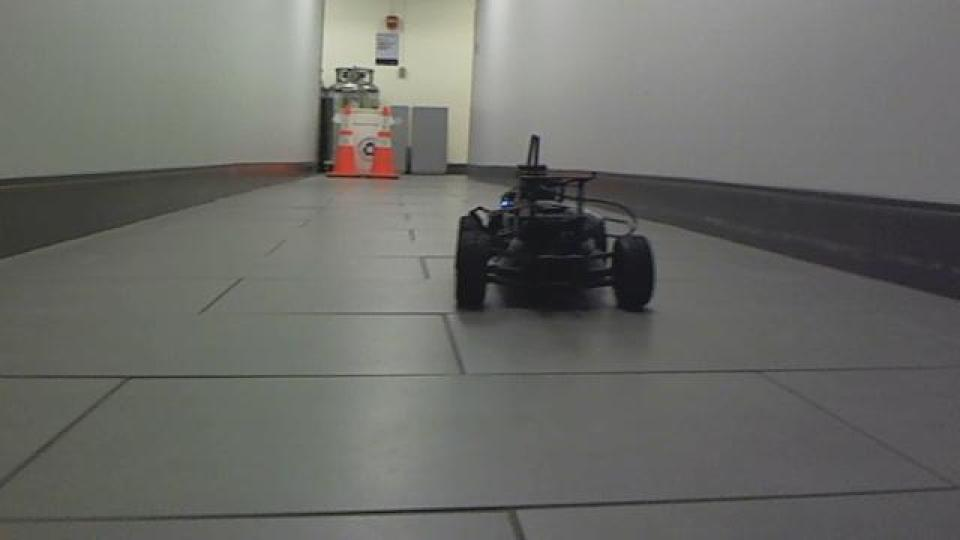car: (450, 132, 658, 315)
